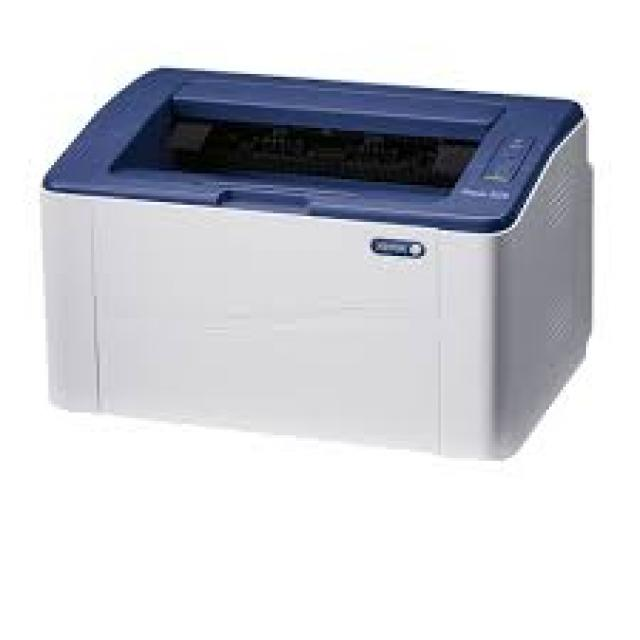printer: (29, 61, 614, 463)
